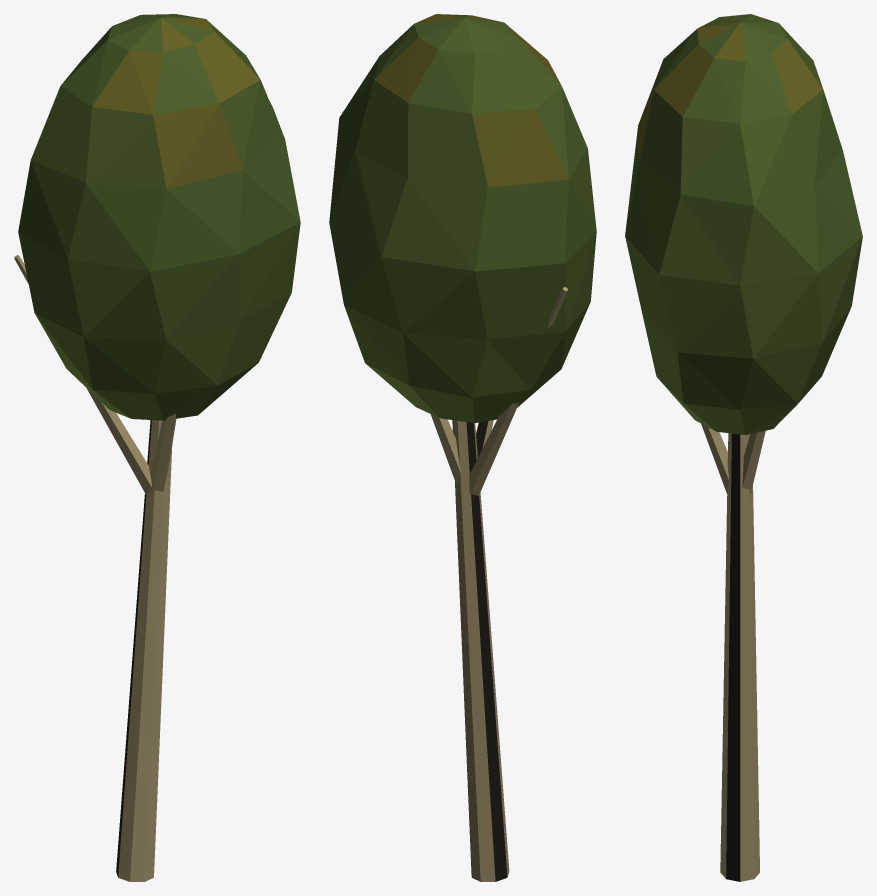
The model's file is Tree_Birch_03.fbx.
3 renders of one model, left to right at view 1: azimuth 30°, elevation 25°; view 2: azimuth 150°, elevation 25°; view 3: azimuth 270°, elevation 25°, orthographic.
Visible parts, largest first — view 1: Tree_Birch_03_Foliage, Tree_Birch_03_Trunk; view 2: Tree_Birch_03_Foliage, Tree_Birch_03_Trunk; view 3: Tree_Birch_03_Foliage, Tree_Birch_03_Trunk.
Boxes of the visible parts, left/top/right/bottom form: Tree_Birch_03_Foliage: left=18, top=14, right=300, bottom=420; Tree_Birch_03_Trunk: left=14, top=255, right=176, bottom=881; Tree_Birch_03_Foliage: left=329, top=14, right=596, bottom=422; Tree_Birch_03_Trunk: left=430, top=287, right=567, bottom=881; Tree_Birch_03_Foliage: left=625, top=14, right=862, bottom=434; Tree_Birch_03_Trunk: left=701, top=423, right=765, bottom=881.
Size of the model in its own units: 2.35 by 7.76 by 1.94.
Materials: 1 (1 with a texture image).
